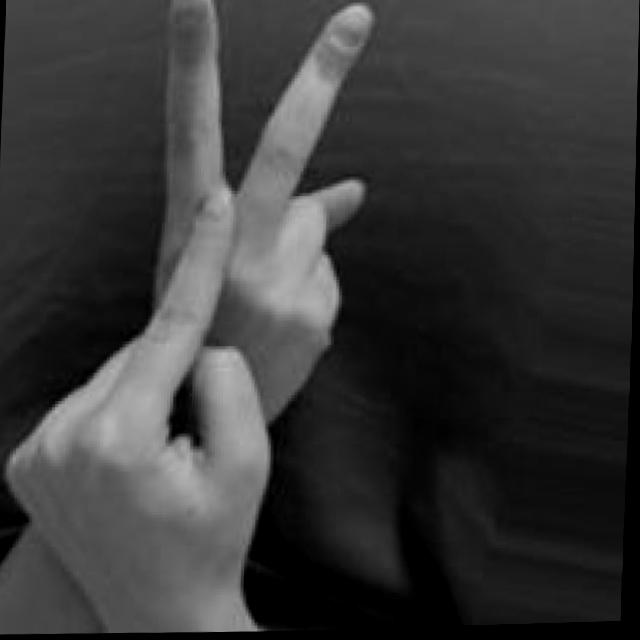Y: (0, 0, 384, 640)
